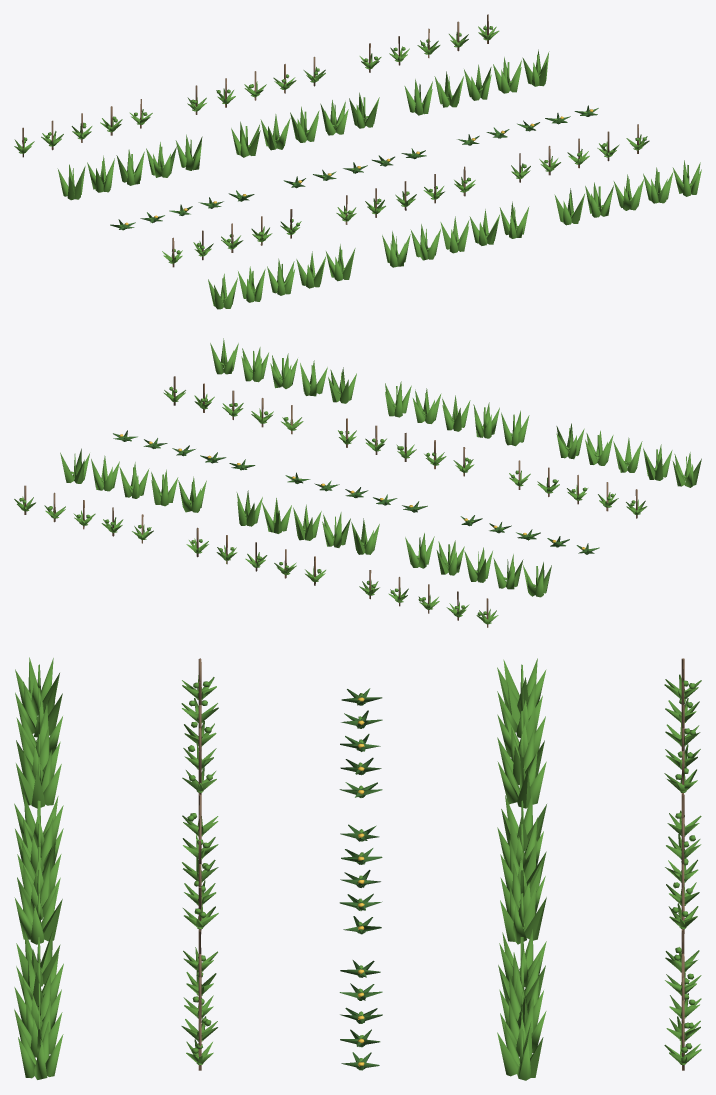
File: crops-ha.glb
3 views of the same model, one above another, from view 1: azimuth 30°, elevation 25°; view 2: azimuth 150°, elevation 25°; view 3: azimuth 270°, elevation 25° (orthographic). The views are drawn at different scales.
Visible parts, largest first — view 1: crop-b4-young, crop-b14-young, crop-b5-young, crop-b3-young, crop-b12-young, crop-b13-young, crop-b2-young, crop-b0-young, crop-b10-young, crop-b1-young, crop-b11-young, crop-b9-young (+3 smaller); view 2: crop-b14-young, crop-b13-young, crop-b3-young, crop-b12-young, crop-b4-young, crop-b5-young, crop-b2-young, crop-b9-young, crop-b11-young, crop-b0-young, crop-b1-young, crop-b10-young (+3 smaller); view 3: crop-b3-young, crop-b14-young, crop-b5-young, crop-b12-young, crop-b13-young, crop-b4-young, crop-b2-young, crop-b9-young, crop-b10-young, crop-b1-young, crop-b0-young, crop-b11-young (+3 smaller).
Part boxes in pixels (x1=…): crop-b4-young: x1=231, y1=92, x2=379, y2=157; crop-b14-young: x1=554, y1=160, x2=701, y2=225; crop-b5-young: x1=404, y1=49, x2=549, y2=115; crop-b3-young: x1=57, y1=134, x2=202, y2=200; crop-b12-young: x1=208, y1=244, x2=355, y2=309; crop-b13-young: x1=382, y1=201, x2=529, y2=267; crop-b2-young: x1=359, y1=14, x2=499, y2=72; crop-b0-young: x1=14, y1=99, x2=152, y2=157; crop-b10-young: x1=336, y1=166, x2=475, y2=224; crop-b1-young: x1=187, y1=56, x2=325, y2=114; crop-b11-young: x1=511, y1=124, x2=649, y2=182; crop-b9-young: x1=162, y1=209, x2=301, y2=267; crop-b14-young: x1=210, y1=338, x2=356, y2=403; crop-b13-young: x1=385, y1=381, x2=529, y2=446; crop-b3-young: x1=405, y1=533, x2=551, y2=597; crop-b12-young: x1=556, y1=423, x2=701, y2=487; crop-b4-young: x1=236, y1=490, x2=379, y2=554; crop-b5-young: x1=60, y1=448, x2=206, y2=512; crop-b2-young: x1=14, y1=485, x2=153, y2=543; crop-b9-young: x1=509, y1=460, x2=647, y2=518; crop-b11-young: x1=163, y1=376, x2=303, y2=434; crop-b0-young: x1=359, y1=570, x2=498, y2=627; crop-b1-young: x1=186, y1=527, x2=325, y2=585; crop-b10-young: x1=338, y1=418, x2=474, y2=476; crop-b3-young: x1=497, y1=658, x2=546, y2=808; crop-b14-young: x1=14, y1=929, x2=63, y2=1079; crop-b5-young: x1=497, y1=929, x2=546, y2=1080; crop-b12-young: x1=15, y1=657, x2=62, y2=808; crop-b13-young: x1=14, y1=794, x2=63, y2=944; crop-b4-young: x1=497, y1=793, x2=546, y2=944; crop-b2-young: x1=664, y1=930, x2=701, y2=1070; crop-b9-young: x1=181, y1=658, x2=218, y2=794; crop-b10-young: x1=182, y1=794, x2=218, y2=933; crop-b1-young: x1=665, y1=794, x2=701, y2=933; crop-b0-young: x1=664, y1=658, x2=701, y2=794; crop-b11-young: x1=181, y1=930, x2=217, y2=1070.
Size of the model in its own units: 2.83 by 0.1738 by 2.14.
Materials: 5 (2 with a texture image).
